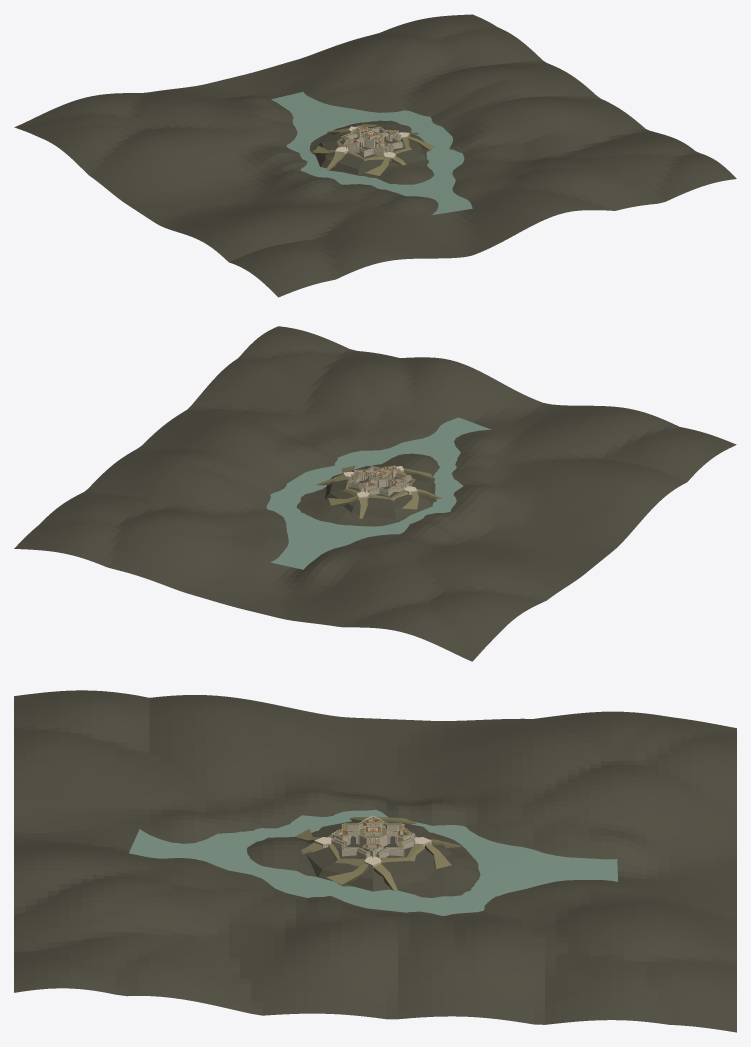
The model's file is bastion_exportTest5.glb.
3 renders of one model, top to bottom at view 1: azimuth 30°, elevation 25°; view 2: azimuth 150°, elevation 25°; view 3: azimuth 270°, elevation 25°, orthographic. The views are drawn at different scales.
Parts seen in each view (by area): view 1: terrain, river, foundation, instanced_meshes.001; view 2: terrain, river, foundation, instanced_meshes.001; view 3: terrain, river, foundation, instanced_meshes.001.
Boxes of the visible parts, <box> form: terrain: <box>14,14,736,297</box>; river: <box>271,91,472,215</box>; foundation: <box>314,126,426,175</box>; instanced_meshes.001: <box>341,126,403,157</box>; terrain: <box>14,326,736,661</box>; river: <box>266,417,491,569</box>; foundation: <box>324,466,435,519</box>; instanced_meshes.001: <box>349,465,411,496</box>; terrain: <box>14,690,736,1032</box>; river: <box>129,809,617,915</box>; foundation: <box>305,820,452,891</box>; instanced_meshes.001: <box>331,816,415,858</box>.
Size of the model in its own units: 2446 by 227 by 2444.
